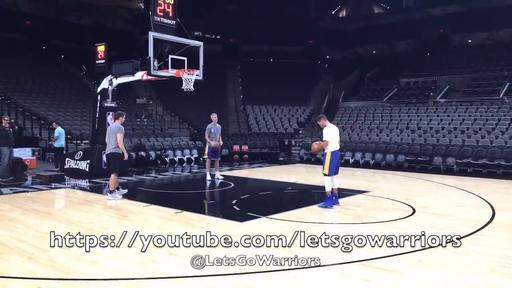ball: (311, 141, 323, 153)
human: (316, 114, 340, 208), (105, 111, 129, 200), (202, 112, 224, 180), (48, 120, 66, 171)
rim: (179, 68, 198, 91)
